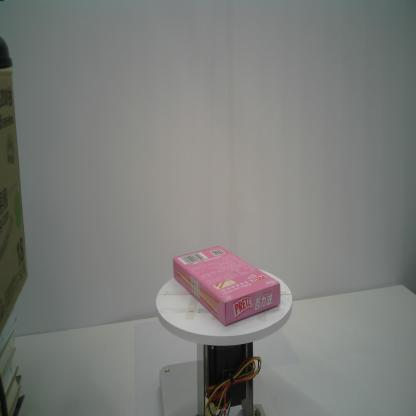Dessert: (172, 245, 282, 327)
